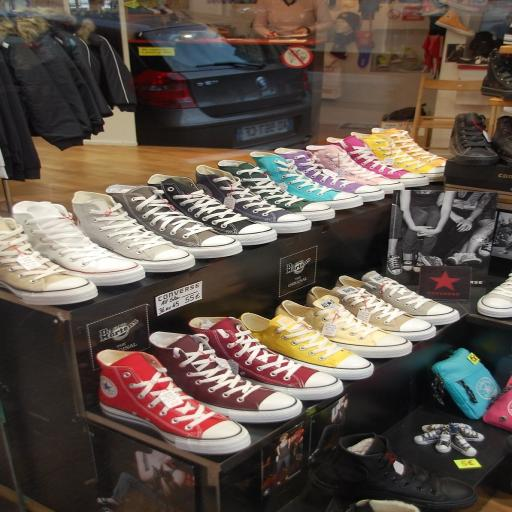shoe: (96, 350, 250, 454), (149, 331, 301, 423), (309, 433, 477, 512), (189, 317, 332, 400), (240, 312, 374, 398), (13, 201, 145, 286), (72, 191, 196, 273), (106, 184, 243, 258), (147, 174, 277, 246), (275, 294, 412, 358), (0, 217, 98, 305), (196, 164, 312, 234), (218, 160, 336, 222), (306, 285, 434, 341), (333, 275, 436, 341), (250, 151, 363, 210), (274, 148, 385, 202), (326, 135, 430, 187), (362, 271, 459, 325), (306, 144, 404, 194), (352, 133, 437, 181), (372, 128, 446, 182), (449, 112, 499, 165), (480, 49, 512, 101), (476, 272, 512, 317), (328, 498, 420, 512), (422, 422, 485, 442), (435, 8, 475, 36), (491, 116, 512, 164), (451, 432, 478, 457), (414, 425, 445, 445), (439, 0, 488, 12), (455, 424, 485, 442), (435, 425, 452, 453)
